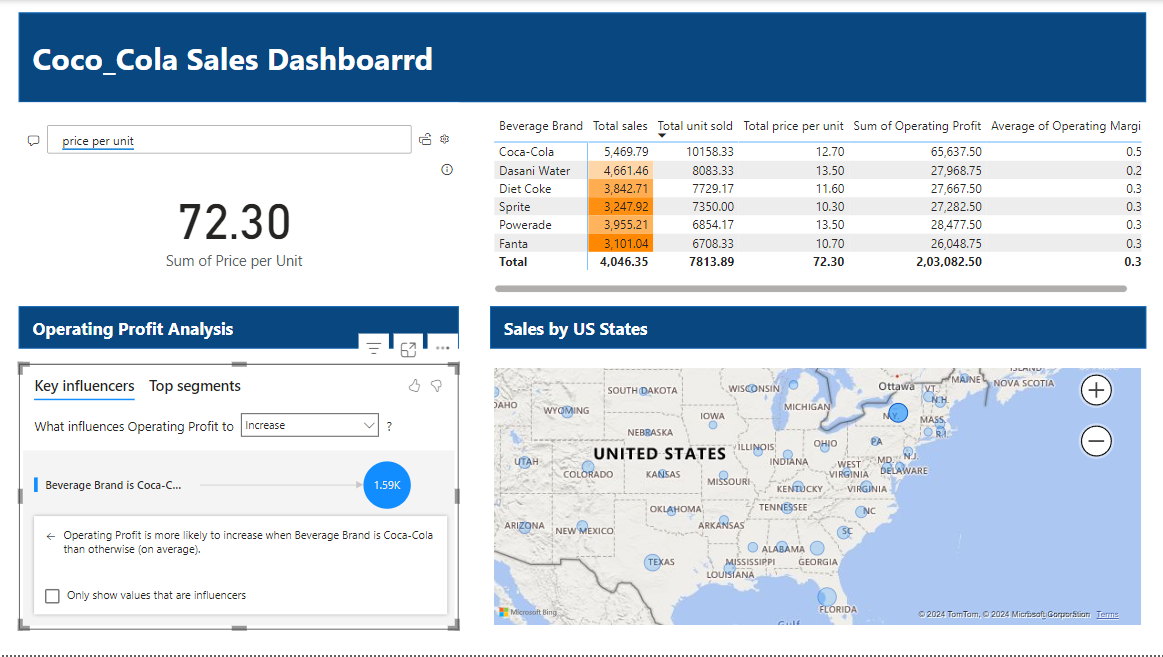

The dashboard page shown, as its layout file describes it:
{"tool":"powerbi","page":{"name":"Page 1","canvas":[1280,720],"ordinal":0},"visuals":[{"type":"shape","box":[20.6,13.7,1237.7,98.8],"z":0},{"type":"shape","box":[20.6,336.2,483,46.7],"z":1},{"type":"shape","box":[537.9,336.2,720.4,46.7],"z":2},{"type":"qnaVisual","box":[20.6,112.5,483,203.1],"z":3},{"type":"keyDriversVisual","fields":{"Target":["Data.Operating Profit"],"ExplainBy":["Data.Beverage Brand"]},"box":[20.6,399.3,483,292.3],"z":4},{"type":"map","fields":{"Category":["Data.State"],"Size":["Sum(Data.Total Sales)"]},"box":[537.9,399.3,720.4,292.3],"z":5},{"type":"pivotTable","fields":{"Rows":["Data.Beverage Brand"],"Values":["Avg(Data.Total Sales)","Avg(Data.Units Sold)","Sum(Data.Price per Unit)","Sum(Data.Operating Profit)","Avg(Data.Operating Margin)"]},"box":[537.9,122.1,720.4,204.5],"z":6}]}

Visuals, with their boxes in screenshot pixels (x1, y1, x2, y2), scaled from the page's 1280x720 canvas onto the 1163x657 screenshot:
shape: BBox(19, 13, 1143, 103)
shape: BBox(19, 307, 458, 349)
shape: BBox(489, 307, 1143, 349)
qnaVisual: BBox(19, 103, 458, 288)
keyDriversVisual - Data.Operating Profit x Data.Beverage Brand: BBox(19, 364, 458, 631)
map - Data.State x Sum(Data.Total Sales): BBox(489, 364, 1143, 631)
pivotTable - Data.Beverage Brand x Avg(Data.Total Sales): BBox(489, 111, 1143, 298)
